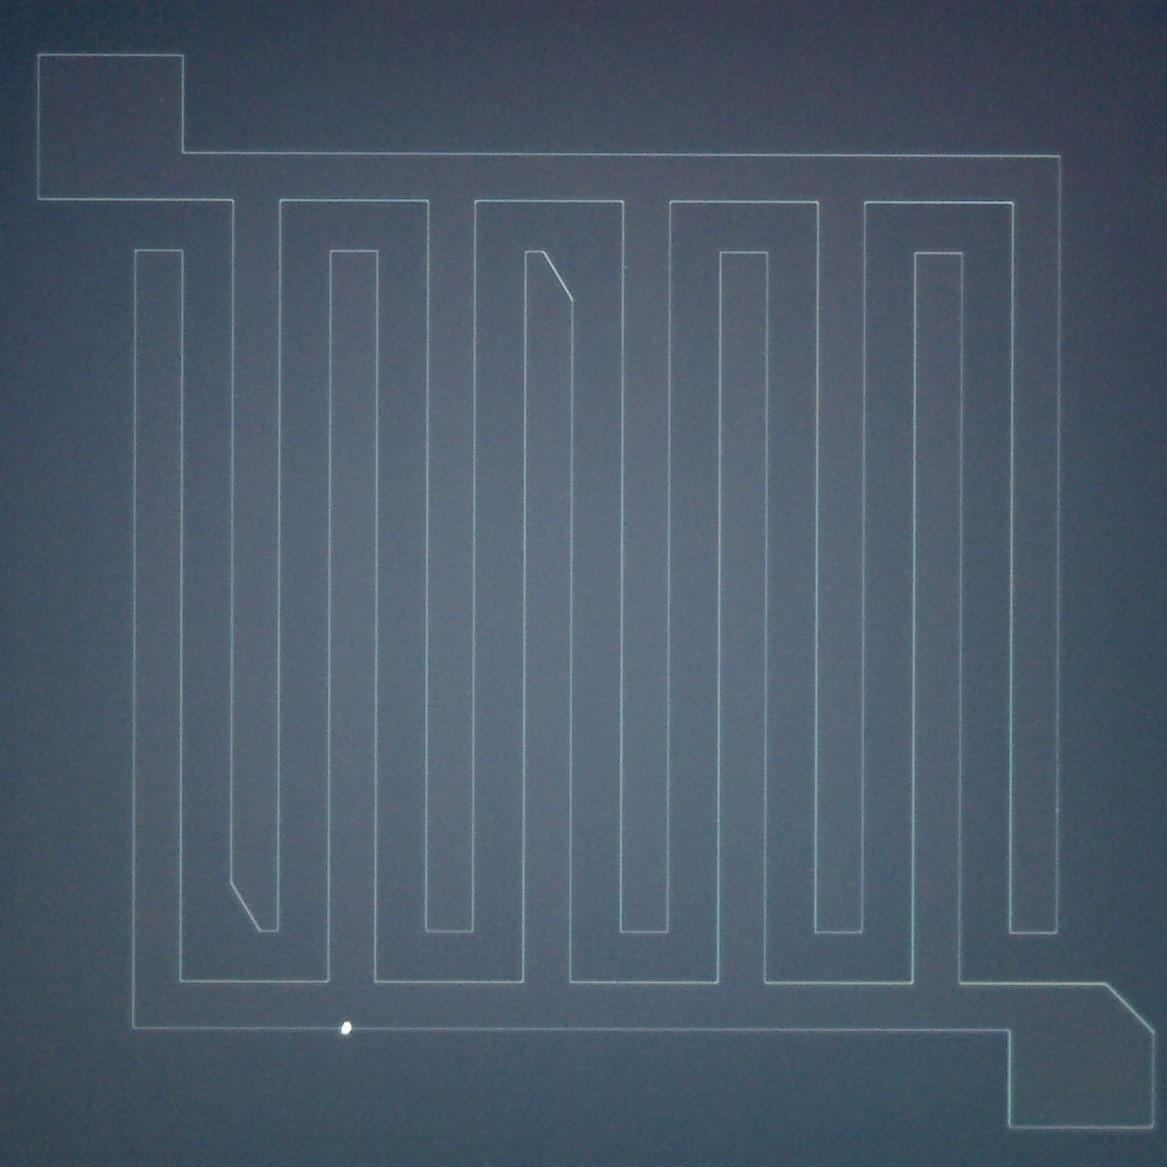B_point: (341, 1013, 359, 1042)
cut: (500, 238, 593, 322), (211, 869, 294, 950), (1086, 971, 1165, 1048)
